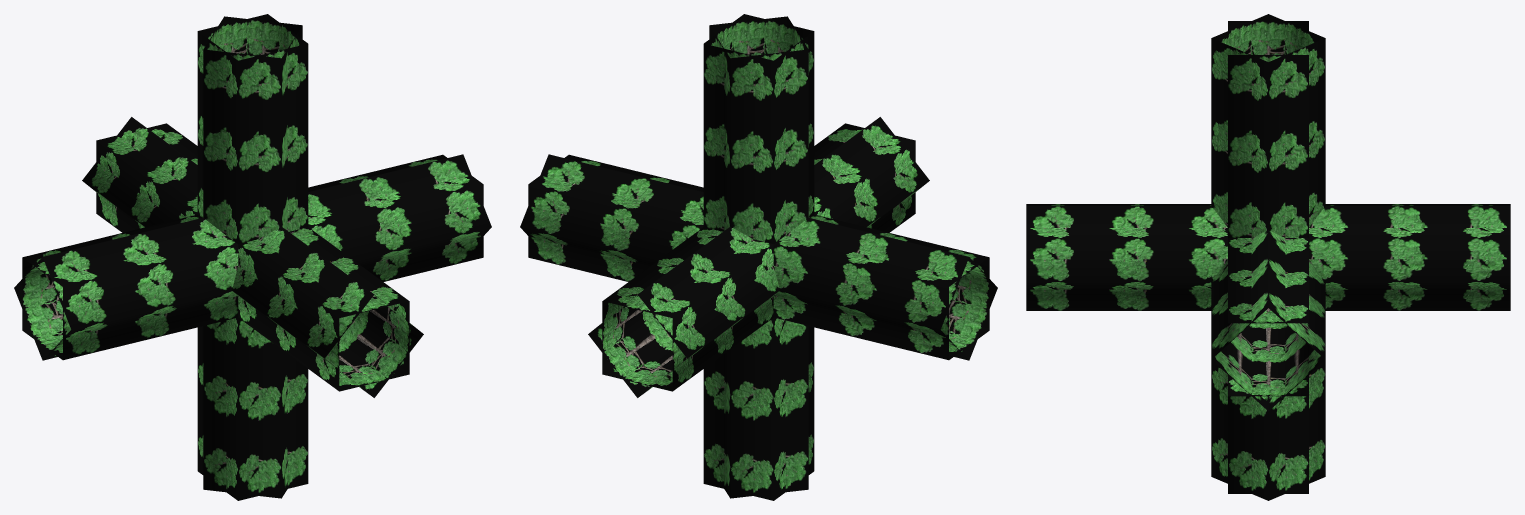
Rendered from StarTetrahemihexacron5.gltf.
3 renders of one model, left to right at view 1: azimuth 30°, elevation 25°; view 2: azimuth 150°, elevation 25°; view 3: azimuth 270°, elevation 25°, orthographic.
Visible parts, largest first — view 1: StarTetrahemihexacron; view 2: StarTetrahemihexacron; view 3: StarTetrahemihexacron.
Boxes of the visible parts, x1,y1,x2,y2 form: StarTetrahemihexacron: [14, 14, 491, 500]; StarTetrahemihexacron: [520, 14, 997, 500]; StarTetrahemihexacron: [1026, 14, 1510, 500].
Bounding box in the file's own units: 6 × 6 × 6.
Materials: 1 (1 with a texture image).
